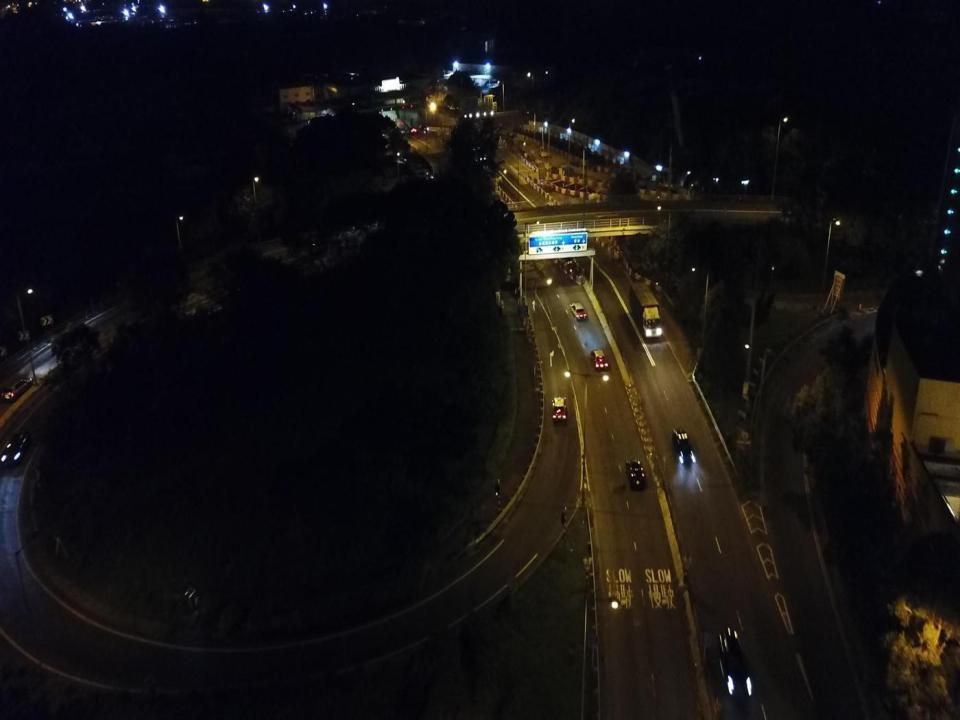car: (716, 624, 753, 700), (0, 428, 31, 467), (672, 425, 696, 466), (0, 374, 32, 403), (625, 456, 646, 490), (551, 394, 567, 423), (570, 300, 588, 322), (591, 348, 608, 370)
truck: (628, 282, 663, 338)
